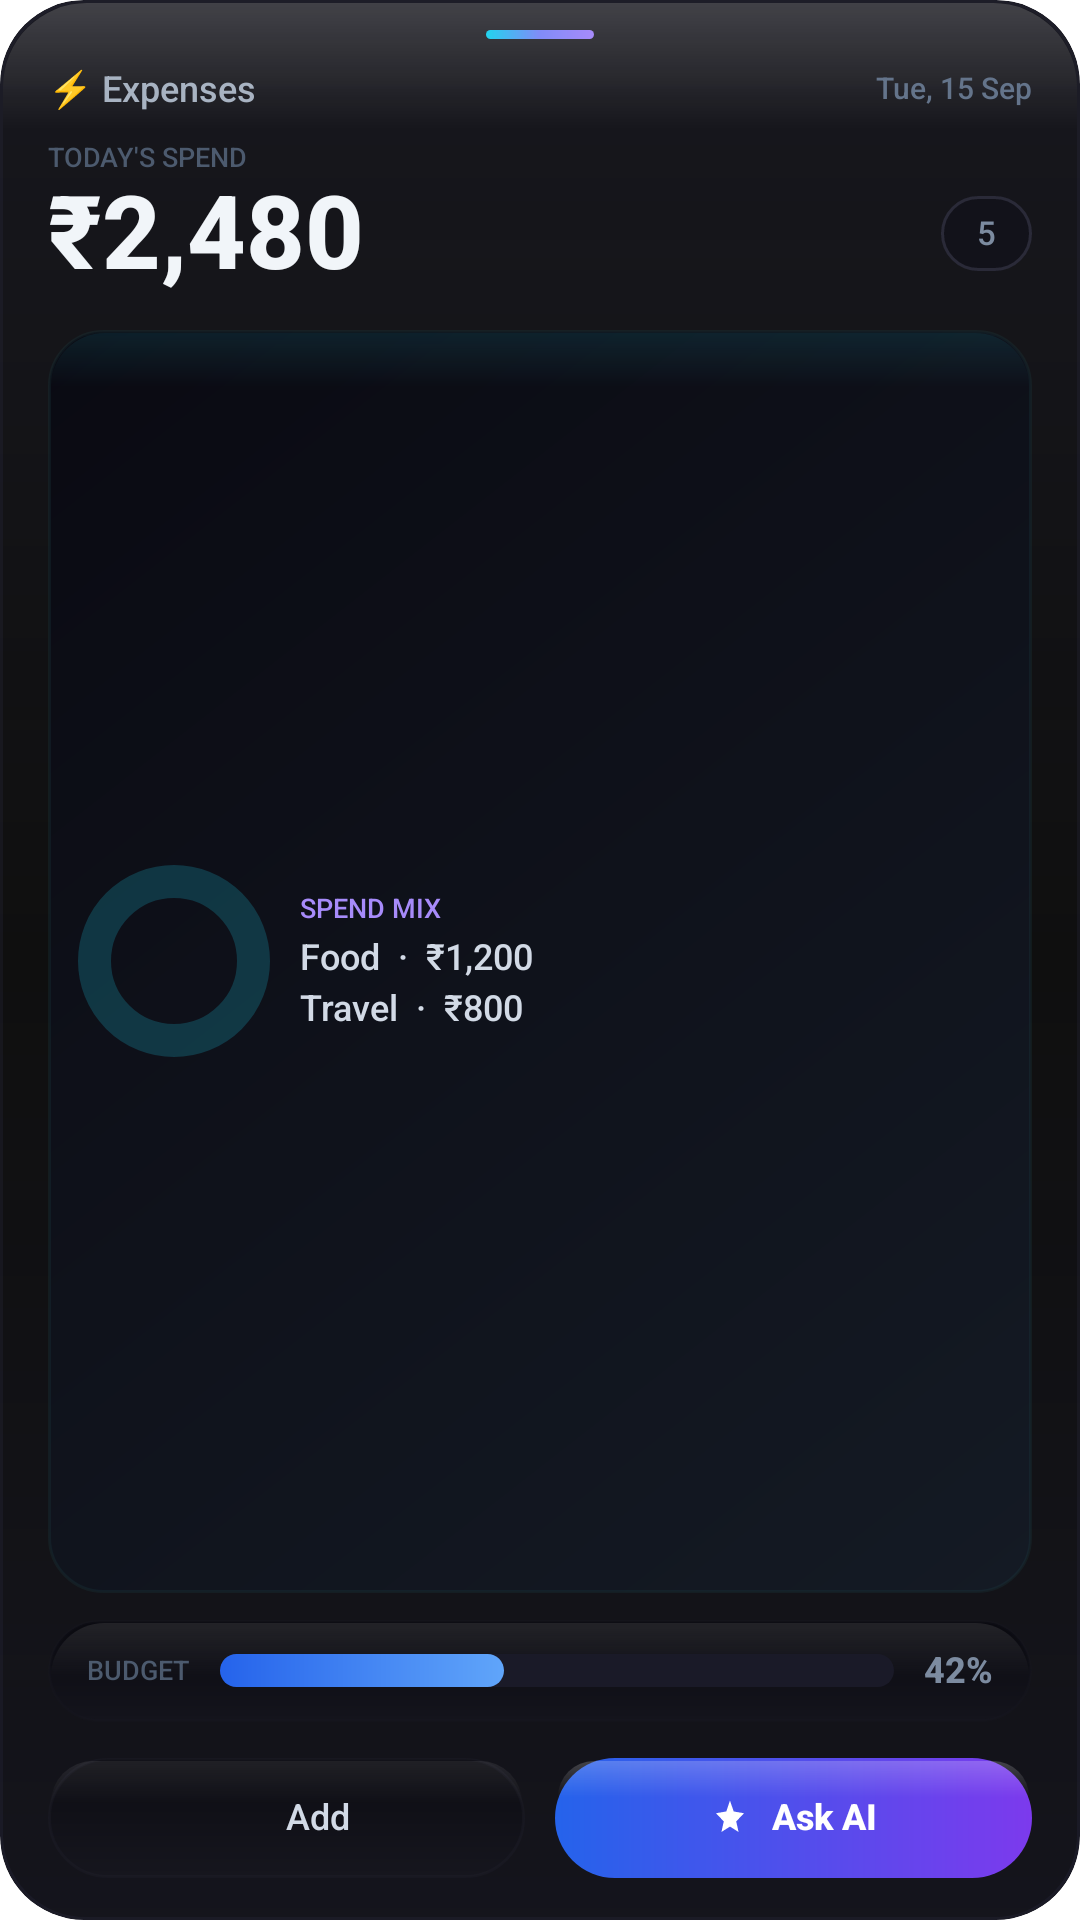

Screen size 1080px×1920px. Icon name, then its center in pixels as (x=x, y=y):
widget sparkle: (x=730, y=1816)
